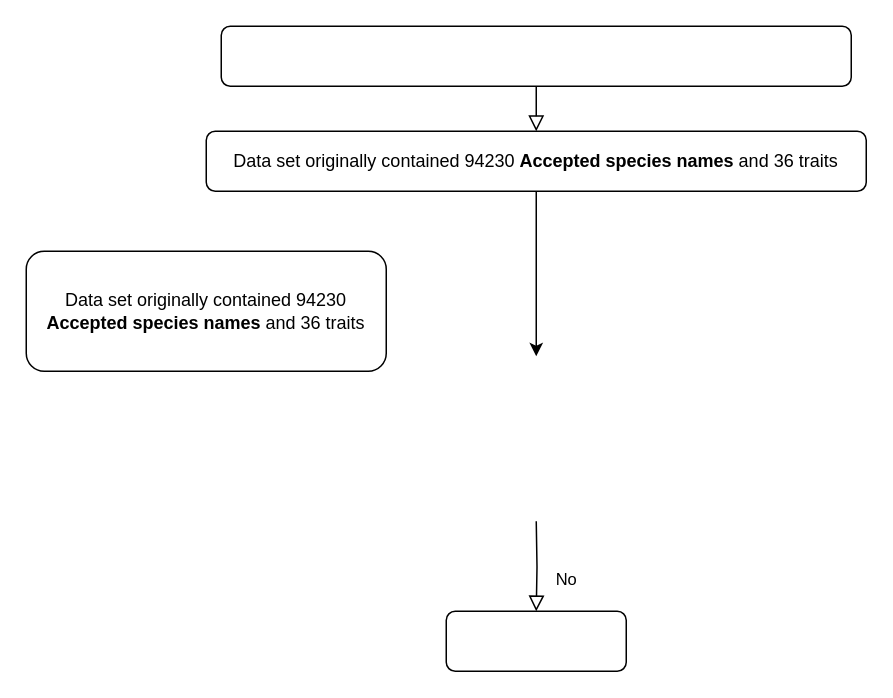
Image size: 893x698. Some labels were removed from this diagram. The centre of each missing label's shape, as x and y in pixels:
Repair Lamp: [535,640]
TRY database (data requested on ...): [535,55]
